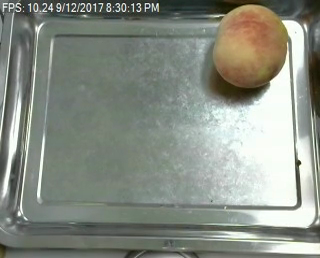Peach: (212, 3, 288, 88)
